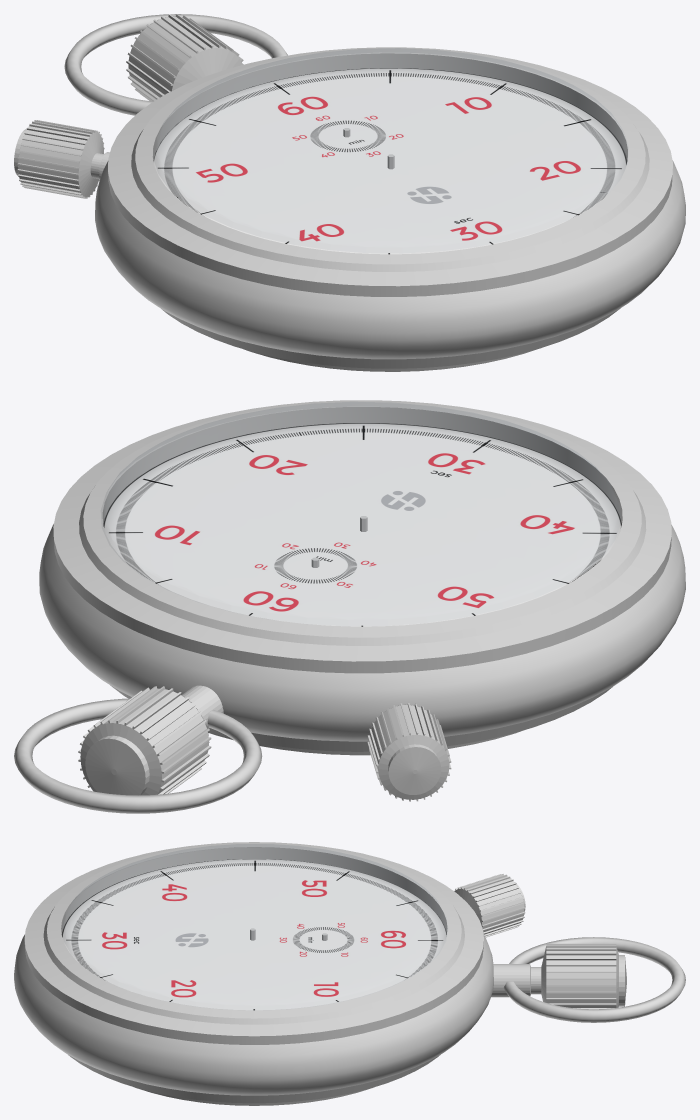
Rendered from Stopwatch.fbx.
3 views of the same model, one above another, from view 1: azimuth 30°, elevation 25°; view 2: azimuth 150°, elevation 25°; view 3: azimuth 270°, elevation 25° (orthographic). The views are drawn at different scales.
Parts seen in each view (by area): view 1: Cylinder.002; view 2: Cylinder.002; view 3: Cylinder.002.
Boxes of the visible parts, x1,y1,x2,y2 form: Cylinder.002: [14, 14, 685, 371]; Cylinder.002: [14, 400, 685, 813]; Cylinder.002: [14, 842, 685, 1105].
Bounding box in the file's own units: 25.81 × 6.62 × 36.09.
Materials: 3 (1 with a texture image).
